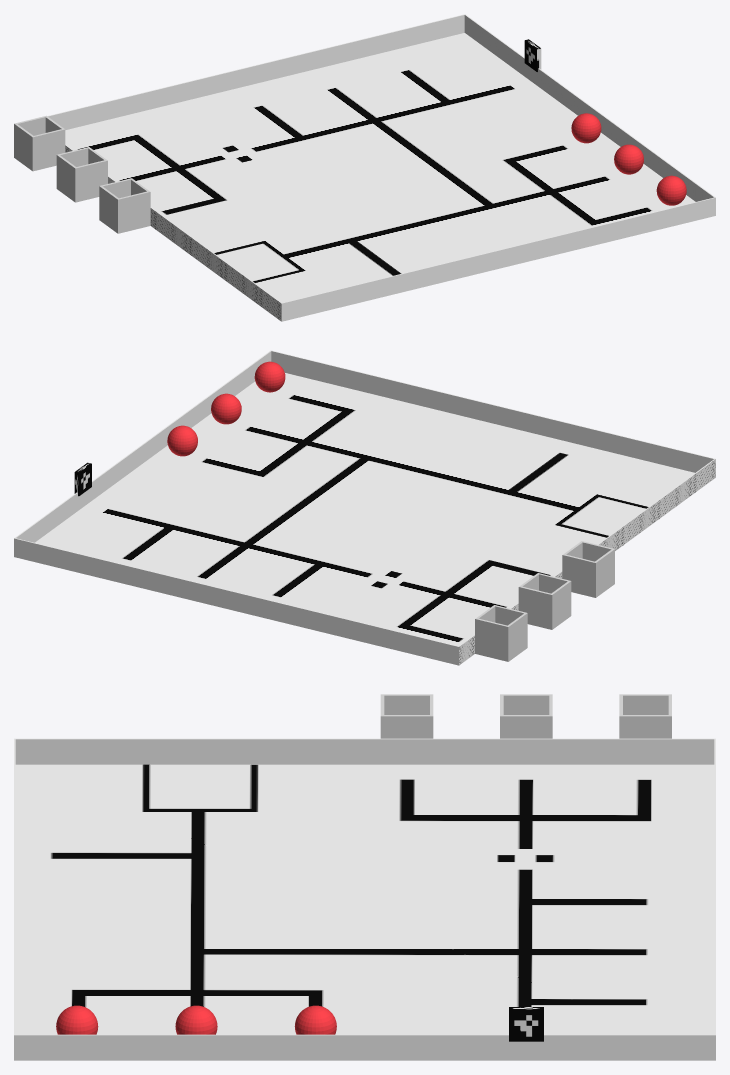
Rendered from robolympics_config_0.dae.
3 renders of one model, top to bottom at view 1: azimuth 30°, elevation 25°; view 2: azimuth 150°, elevation 25°; view 3: azimuth 270°, elevation 25°, orthographic. The views are drawn at different scales.
Parts seen in each view (by area): view 1: Plane, Cube-1, Cube-2, Cube-3, Balloon 3, Balloon 2, Balloon 1; view 2: Plane, Cube-3, Cube-2, Cube-1, Balloon 1, Balloon 2, Balloon 3; view 3: Plane, Cube-1, Cube-3, Cube-2, Aruco, Balloon 2, Balloon 3, Balloon 1.
Boxes of the visible parts, x1=… form: Plane: x1=47, y1=14, x2=715, y2=321; Cube-1: x1=99, y1=178, x2=150, y2=233; Cube-2: x1=56, y1=147, x2=107, y2=202; Cube-3: x1=14, y1=115, x2=65, y2=171; Balloon 3: x1=571, y1=113, x2=601, y2=143; Balloon 2: x1=614, y1=144, x2=643, y2=174; Balloon 1: x1=656, y1=175, x2=686, y2=205; Plane: x1=14, y1=350, x2=715, y2=665; Cube-3: x1=475, y1=605, x2=527, y2=661; Cube-2: x1=518, y1=573, x2=571, y2=629; Cube-1: x1=562, y1=541, x2=614, y2=597; Balloon 1: x1=254, y1=361, x2=285, y2=392; Balloon 2: x1=211, y1=393, x2=241, y2=424; Balloon 3: x1=167, y1=425, x2=197, y2=456; Plane: x1=14, y1=738, x2=715, y2=1060; Cube-1: x1=380, y1=694, x2=433, y2=738; Cube-3: x1=619, y1=694, x2=671, y2=738; Cube-2: x1=500, y1=694, x2=552, y2=738; Aruco: x1=509, y1=1007, x2=543, y2=1041; Balloon 2: x1=175, y1=1005, x2=217, y2=1034; Balloon 3: x1=294, y1=1005, x2=336, y2=1034; Balloon 1: x1=56, y1=1005, x2=98, y2=1034.
Size of the model in its own units: 2.16 by 2 by 0.165.
Materials: 5 (2 with a texture image).
